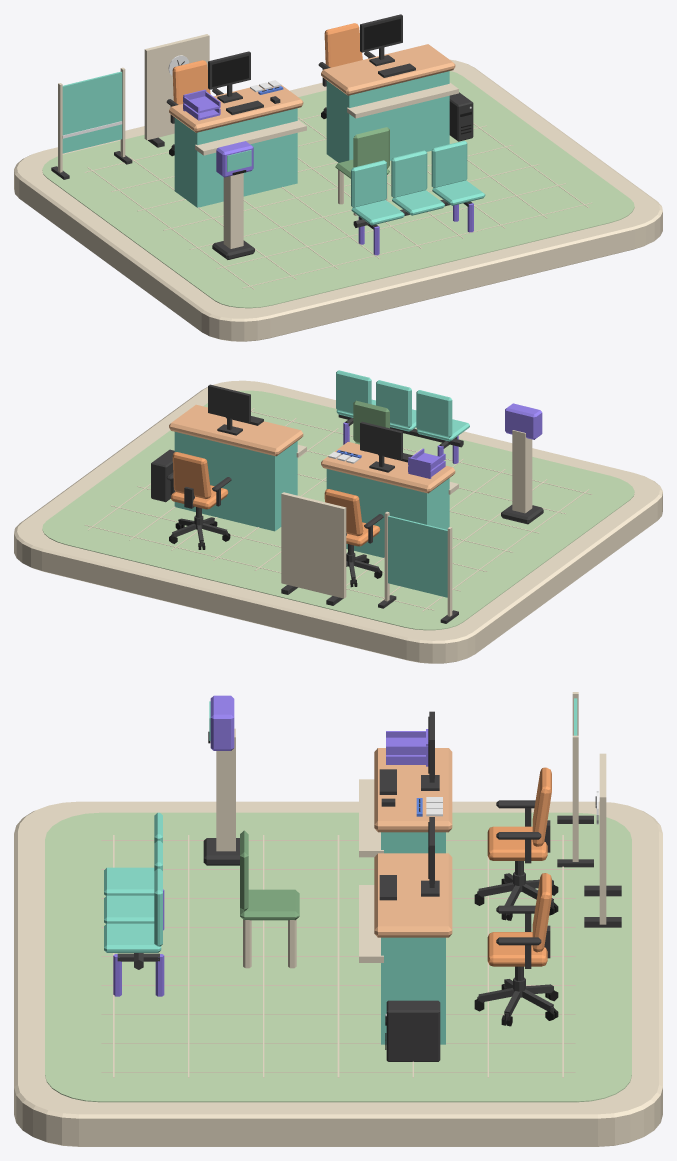
The model's file is room.fbx.
The picture shows the model from 3 angles, top to bottom: view 1: azimuth 30°, elevation 25°; view 2: azimuth 150°, elevation 25°; view 3: azimuth 270°, elevation 25°; orthographic projection. The views are drawn at different scales.
Visible parts, largest first — view 1: COM-02 Floor Surface, COM-01 Rounded Base Direct, Counter body, Counter body.001, Frosted privacy panel, Panel, Countertop.001, Countertop, COM-04_Chair_blender_direct.001, Pedestal, Frame, Frame.001 (+14 smaller); view 2: COM-02 Floor Surface, COM-01 Rounded Base Direct, Counter body.001, Panel, Counter body, Frosted privacy panel, COM-04_Chair_blender_direct.001, Countertop.001, Countertop, COM-04_Chair_blender_direct, Pedestal, Back (+9 smaller); view 3: COM-02 Floor Surface, COM-01 Rounded Base Direct, Countertop.001, COM-04_Chair_blender_direct.001, COM-04_Chair_blender_direct, Counter body.001, Countertop, Tower, Pedestal, Seat.003, Seat.002, Seat.001 (+13 smaller).
Part boxes in pixels (x1,y1,x2,y2): COM-02 Floor Surface: (42, 71, 634, 308); COM-01 Rounded Base Direct: (14, 59, 662, 341); Counter body: (174, 108, 297, 207); Counter body.001: (326, 71, 449, 162); Frosted privacy panel: (62, 71, 122, 153); Panel: (144, 34, 209, 140); Countertop.001: (321, 44, 455, 95); Countertop: (169, 83, 303, 132); COM-04_Chair_blender_direct.001: (318, 23, 375, 118); Pedestal: (223, 173, 243, 248); Frame: (208, 51, 250, 103); Frame.001: (360, 14, 402, 66); COM-02 Floor Surface: (42, 390, 634, 630); COM-01 Rounded Base Direct: (14, 380, 662, 663); Counter body.001: (174, 432, 297, 531); Panel: (281, 492, 346, 598); Counter body: (326, 469, 449, 557); Frosted privacy panel: (388, 515, 447, 597); COM-04_Chair_blender_direct.001: (166, 452, 231, 549); Countertop.001: (169, 404, 303, 456); Countertop: (321, 442, 455, 493); COM-04_Chair_blender_direct: (324, 489, 383, 587); Pedestal: (512, 430, 532, 513); Back: (416, 390, 452, 437); COM-02 Floor Surface: (45, 812, 631, 1102); COM-01 Rounded Base Direct: (14, 801, 662, 1146); Countertop.001: (374, 853, 452, 937); COM-04_Chair_blender_direct.001: (474, 873, 558, 1026); COM-04_Chair_blender_direct: (474, 767, 558, 920); Counter body.001: (381, 937, 445, 1044); Countertop: (374, 748, 452, 832); Tower: (386, 1000, 440, 1061); Pedestal: (216, 728, 235, 851); Seat.003: (240, 889, 299, 920); Seat.002: (104, 923, 161, 952); Seat.001: (104, 895, 154, 923).
Size of the model in its own units: 600 by 187 by 520.
